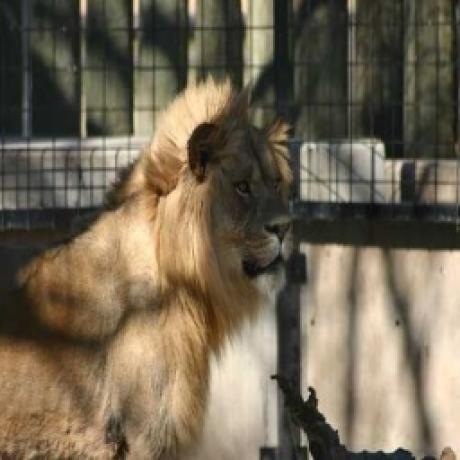Lion: (0, 73, 297, 460)
